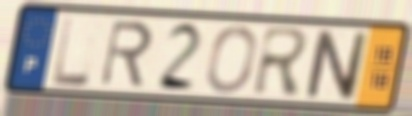2: (150, 22, 207, 93)
L: (51, 13, 93, 89)
N: (303, 26, 370, 103)
O: (203, 24, 260, 96)
R: (250, 25, 313, 98), (98, 19, 156, 89)
